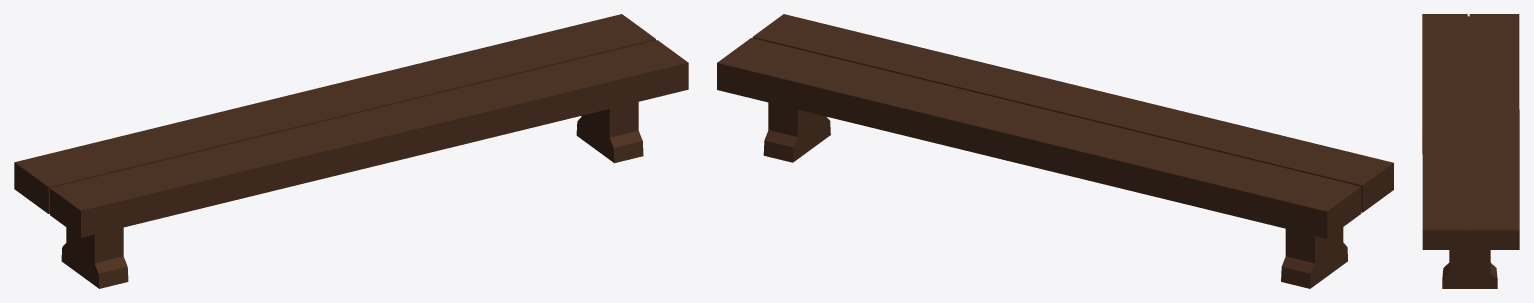
File: Panca.fbx
3 views of the same model, side by side, from view 1: azimuth 30°, elevation 25°; view 2: azimuth 150°, elevation 25°; view 3: azimuth 270°, elevation 25° (orthographic). The views are drawn at different scales.
Visible parts, largest first — view 1: Bench 1.001; view 2: Bench 1.001; view 3: Bench 1.001.
Boxes of the visible parts, <box> form: Bench 1.001: <box>14,14,688,288</box>; Bench 1.001: <box>717,14,1393,288</box>; Bench 1.001: <box>1422,14,1519,288</box>.
Size of the model in its own units: 685 by 103 by 130.
